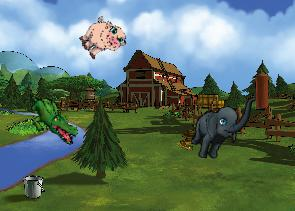crocodile: (17, 91, 86, 146)
elephant: (188, 87, 256, 166)
pig: (74, 11, 130, 66)
